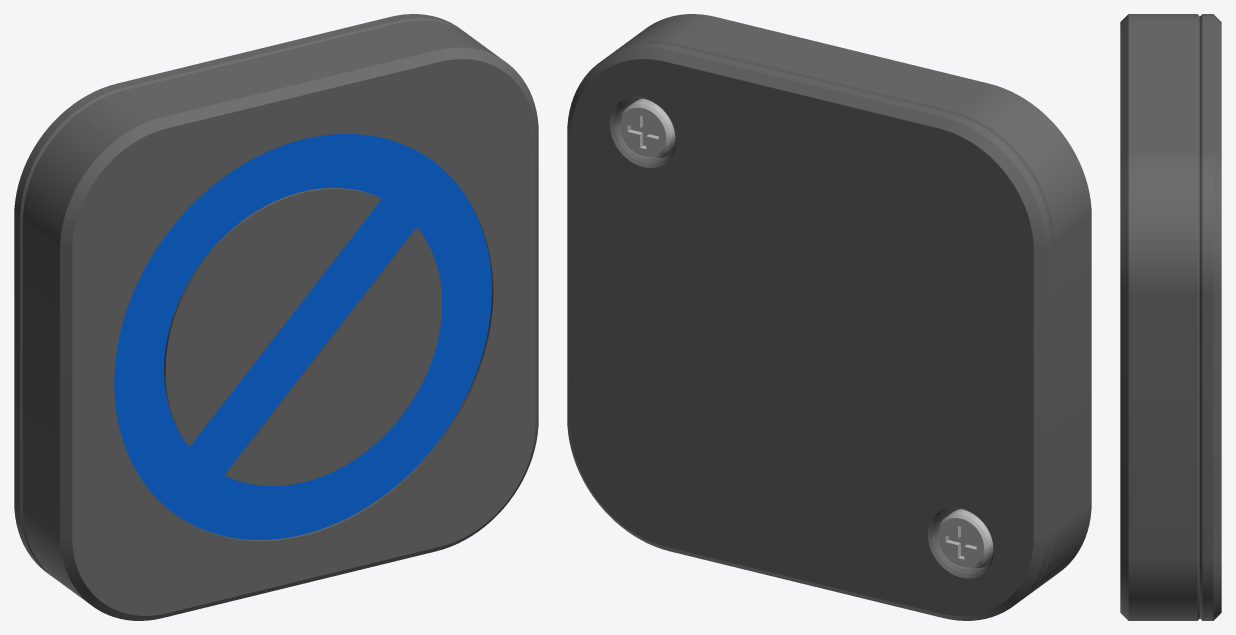
The model's file is zentap-textured-opt.glb.
3 renders of one model, left to right at view 1: azimuth 30°, elevation 25°; view 2: azimuth 150°, elevation 25°; view 3: azimuth 270°, elevation 25°, orthographic. The views are drawn at different scales.
Visible parts, largest first — view 1: zentapv9; view 2: zentapv9; view 3: zentapv9.
Boxes of the visible parts, bbox=[...] form: zentapv9: bbox=[14, 14, 538, 620]; zentapv9: bbox=[567, 14, 1091, 620]; zentapv9: bbox=[1120, 14, 1221, 620].
Bounding box in the file's own units: 46.72 × 46.72 × 9.25.
